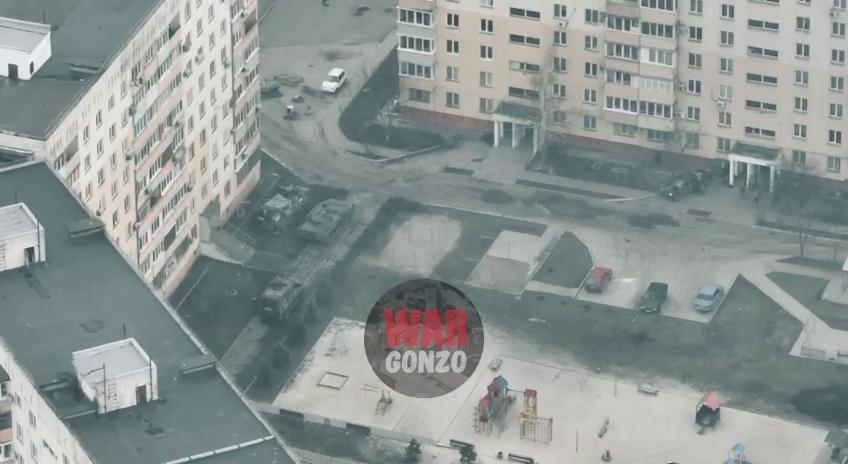armored_car: (256, 275, 303, 327)
car: (660, 168, 712, 201), (638, 282, 668, 313), (693, 282, 724, 312), (584, 266, 612, 292), (321, 68, 348, 93)
tank: (250, 181, 302, 239), (296, 198, 355, 244)
